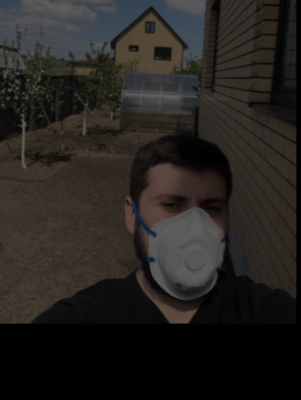with_mask: (139, 175, 228, 306)
